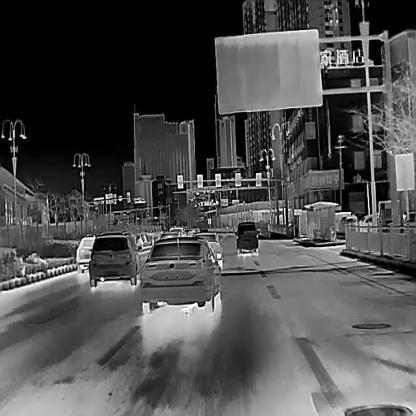car: (139, 237, 222, 314), (89, 232, 141, 286), (193, 232, 223, 259), (235, 221, 259, 253), (76, 233, 95, 271), (359, 213, 374, 231)
